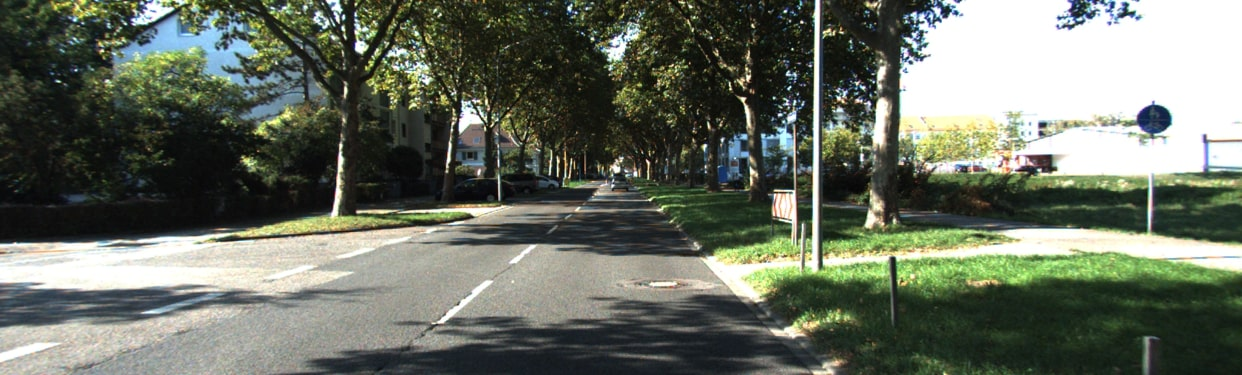car: (605, 173, 635, 190)
